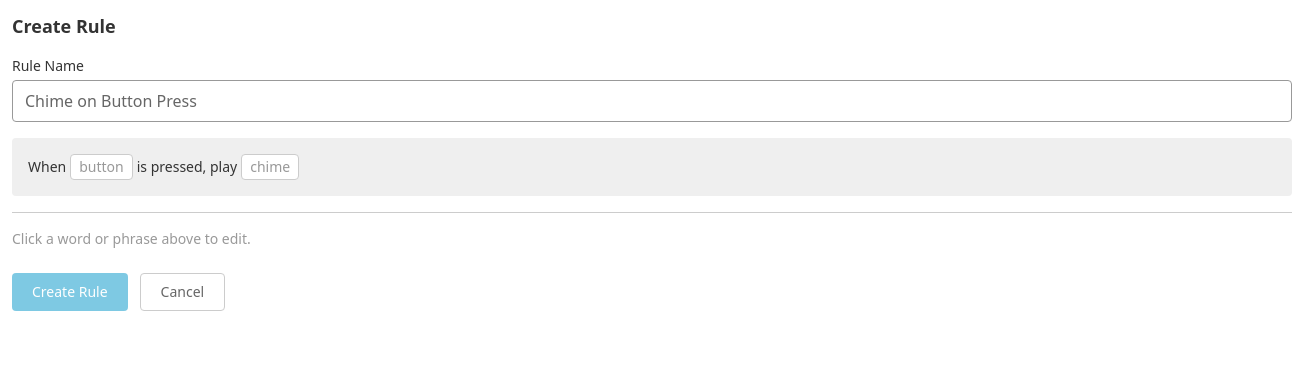
Test: RulePanel (create mode) › shows select dropdown for generic variable
This screenshot has width=1304, height=379.
Click the button "chime". click: (270, 167)
box: left=241, top=154, right=299, bottom=180
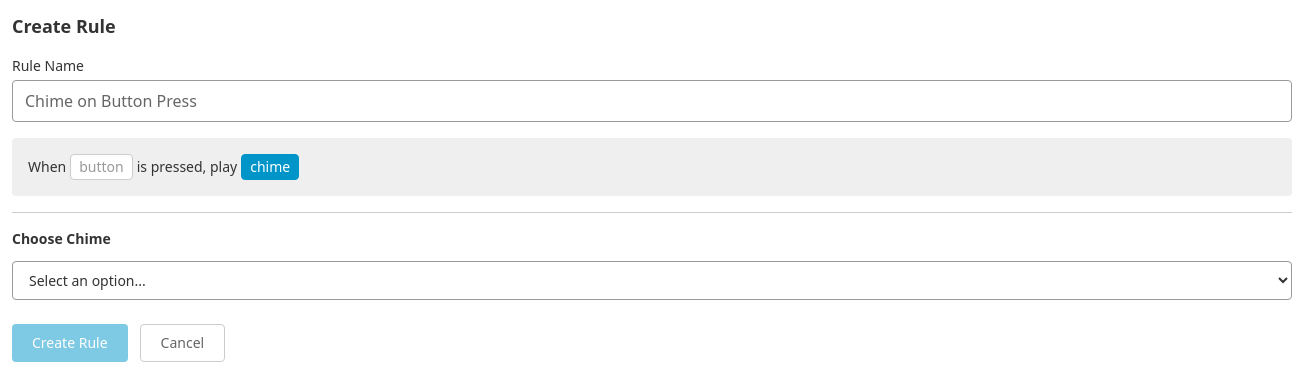
expect the dropdown is shown: met, box left=12, top=261, right=1292, bottom=300
